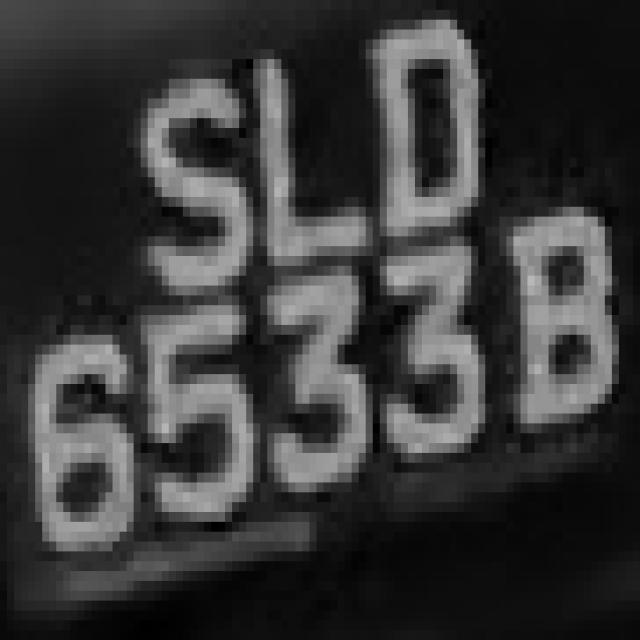3: (246, 256, 373, 532), (359, 237, 485, 482)
5: (127, 286, 274, 561)
6: (35, 305, 148, 581)
B: (499, 217, 640, 482)
D: (359, 0, 506, 256)
L: (239, 49, 380, 296)
S: (134, 30, 253, 305)
